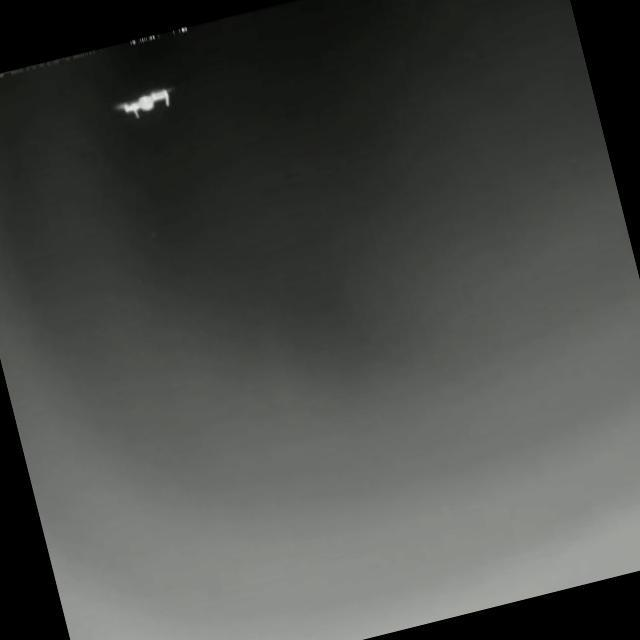DRONE: (110, 83, 179, 119)
